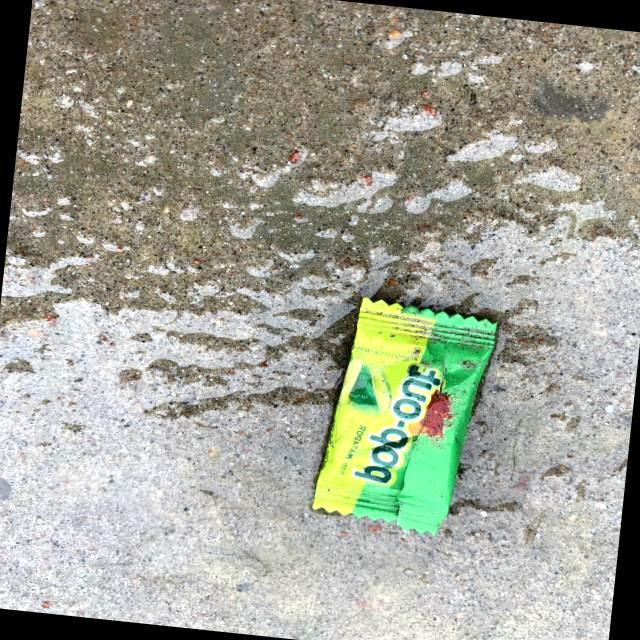packet: (308, 297, 495, 532)
